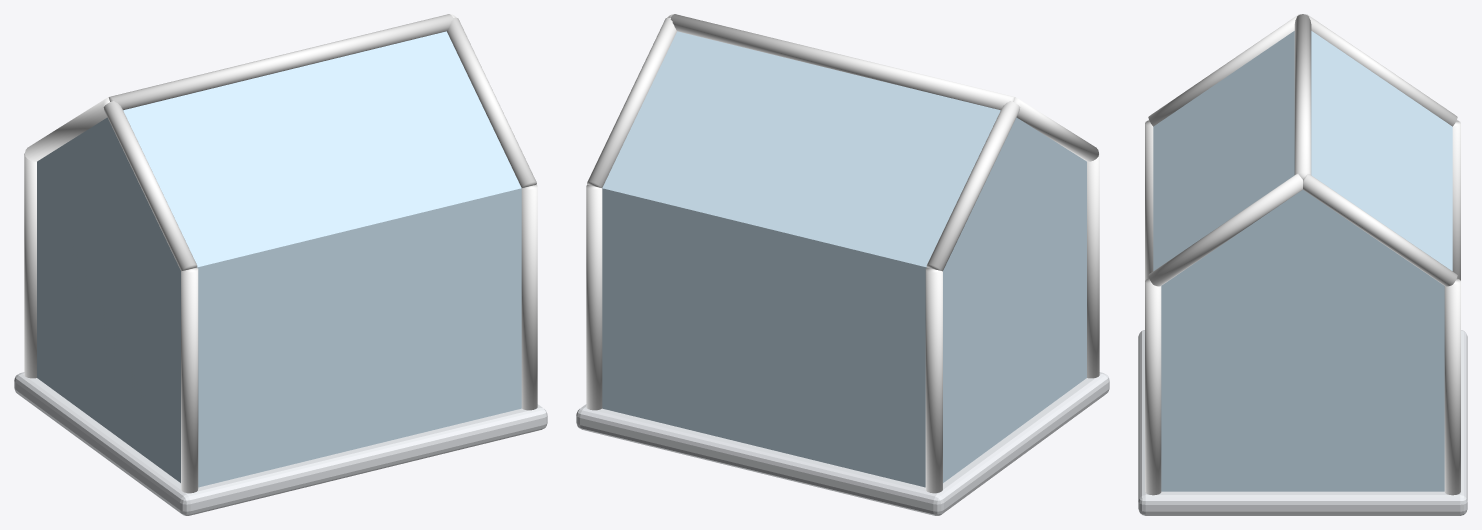
File: invernadero.glb
3 renders of one model, left to right at view 1: azimuth 30°, elevation 25°; view 2: azimuth 150°, elevation 25°; view 3: azimuth 270°, elevation 25°, orthographic. The views are drawn at different scales.
Parts seen in each view (by area): view 1: Cube, techo, Cube.001, Cylinder.008, Cylinder, Cylinder.004, Cylinder.002, Cylinder.006, Cylinder.001, Cylinder.003; view 2: Cube, techo, Cube.001, Cylinder.008, Cylinder.001, Cylinder.005, Cylinder.003, Cylinder.007, Cylinder, Cylinder.002; view 3: Cube, techo, Cube.001, Cylinder.004, Cylinder.005, Cylinder.006, Cylinder.007, Cylinder.008, Cylinder.002, Cylinder.003, Cylinder, Cylinder.001.
Part boxes in pixels (<box>): Cube: <box>37,160,521,487</box>; techo: <box>40,31,521,267</box>; Cube.001: <box>14,372,547,515</box>; Cylinder.008: <box>108,14,453,110</box>; Cylinder: <box>181,267,198,493</box>; Cylinder.004: <box>521,184,537,410</box>; Cylinder.002: <box>103,101,197,271</box>; Cylinder.006: <box>447,17,536,187</box>; Cylinder.001: <box>24,153,36,378</box>; Cylinder.003: <box>25,97,109,161</box>; Cube: <box>602,160,1086,487</box>; techo: <box>602,31,1083,267</box>; Cube.001: <box>576,372,1109,515</box>; Cylinder.008: <box>670,14,1015,110</box>; Cylinder.001: <box>925,267,942,493</box>; Cylinder.005: <box>586,184,602,410</box>; Cylinder.003: <box>926,101,1020,271</box>; Cylinder.007: <box>587,17,676,187</box>; Cylinder: <box>1087,153,1099,378</box>; Cylinder.002: <box>1014,97,1098,161</box>; Cube: <box>1161,281,1444,491</box>; techo: <box>1153,31,1452,281</box>; Cube.001: <box>1138,330,1467,515</box>; Cylinder.004: <box>1145,278,1161,495</box>; Cylinder.005: <box>1444,278,1460,495</box>; Cylinder.006: <box>1148,174,1302,286</box>; Cylinder.007: <box>1303,174,1457,286</box>; Cylinder.008: <box>1294,14,1311,178</box>; Cylinder.002: <box>1148,14,1298,126</box>; Cylinder.003: <box>1307,14,1457,126</box>; Cylinder: <box>1145,120,1153,280</box>; Cylinder.001: <box>1452,120,1460,280</box>.
Size of the model in its own units: 1.08 by 1 by 0.88.
